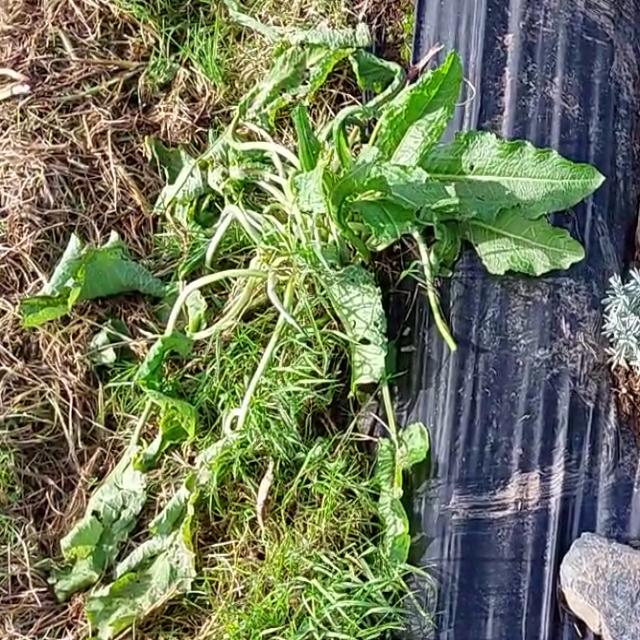organic waste: (23, 42, 610, 615)
